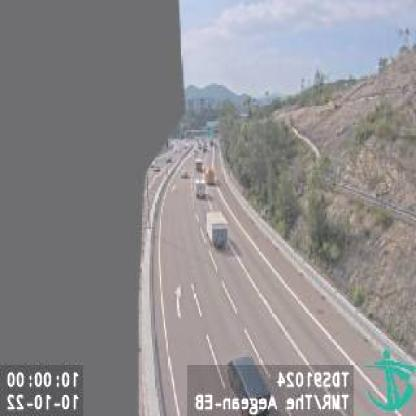Car: (228, 356, 275, 414), (195, 182, 206, 198), (178, 165, 188, 179)
Truck: (204, 214, 228, 250), (203, 166, 215, 186)
